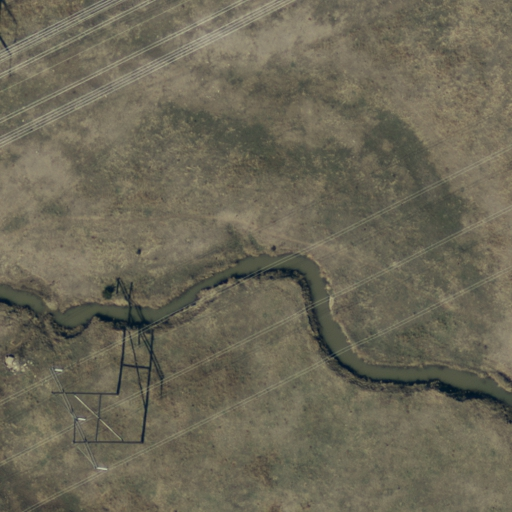TT: (44, 359, 147, 476)
